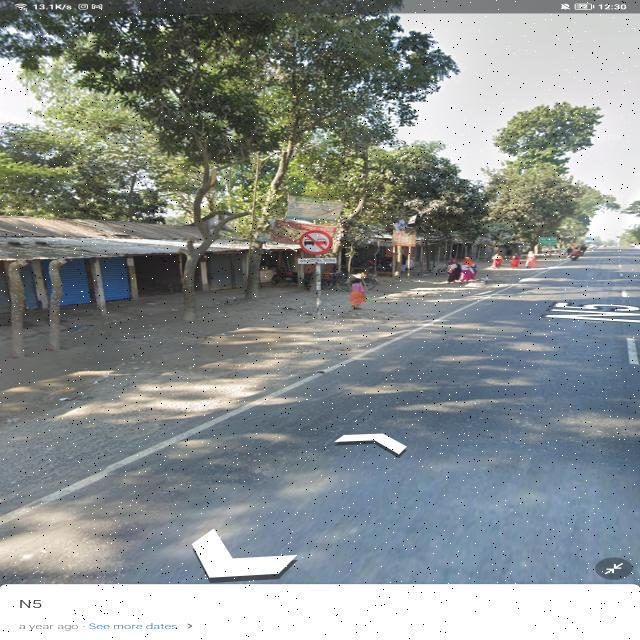Don-t-Overtracking: (298, 223, 343, 273)
